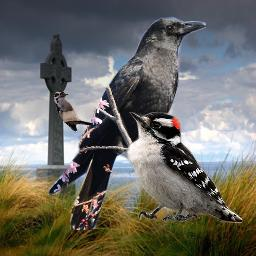Crow: (48, 16, 206, 230)
Woodpecker: (126, 112, 242, 223), (54, 91, 93, 133)
